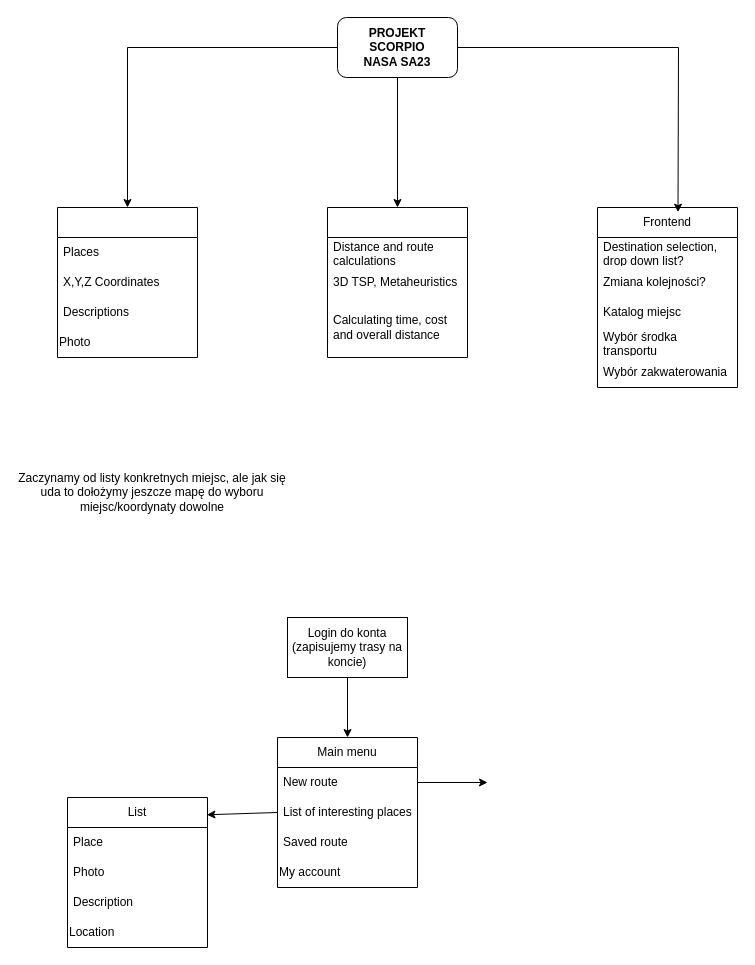
The diagram is 755 pixels wide and 965 high, and some of its shapes have lost their labels. The shapes that lost their labels are listed below. From the top down, each one's box as (x1, y1, x2, y2) in pixels, then its label:
(56, 206, 198, 358): Database
(326, 206, 468, 358): Backend
